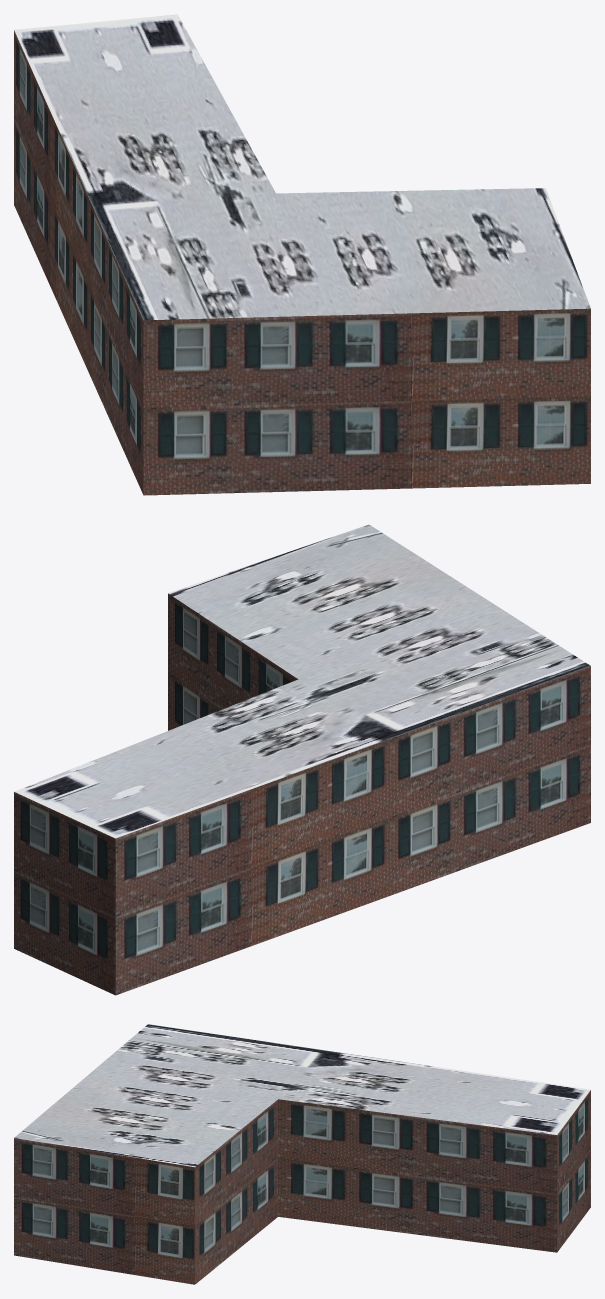
File: ResTex__4596.fbx
The picture shows the model from 3 angles, top to bottom: view 1: azimuth 30°, elevation 25°; view 2: azimuth 150°, elevation 25°; view 3: azimuth 270°, elevation 25°; orthographic projection. The views are drawn at different scales.
Visible parts, largest first — view 1: CityEngineMaterial_14_m, CityEngineMaterial_m; view 2: CityEngineMaterial_14_m, CityEngineMaterial_m; view 3: CityEngineMaterial_14_m, CityEngineMaterial_m.
Boxes of the visible parts, bbox=[...] form: CityEngineMaterial_14_m: bbox=[14, 30, 590, 495]; CityEngineMaterial_m: bbox=[14, 14, 590, 320]; CityEngineMaterial_14_m: bbox=[14, 593, 590, 995]; CityEngineMaterial_m: bbox=[14, 524, 590, 838]; CityEngineMaterial_14_m: bbox=[14, 1090, 590, 1284]; CityEngineMaterial_m: bbox=[14, 1024, 590, 1167].
Size of the model in its own units: 15.67 by 6 by 26.7.
Materials: 2 (2 with a texture image).
